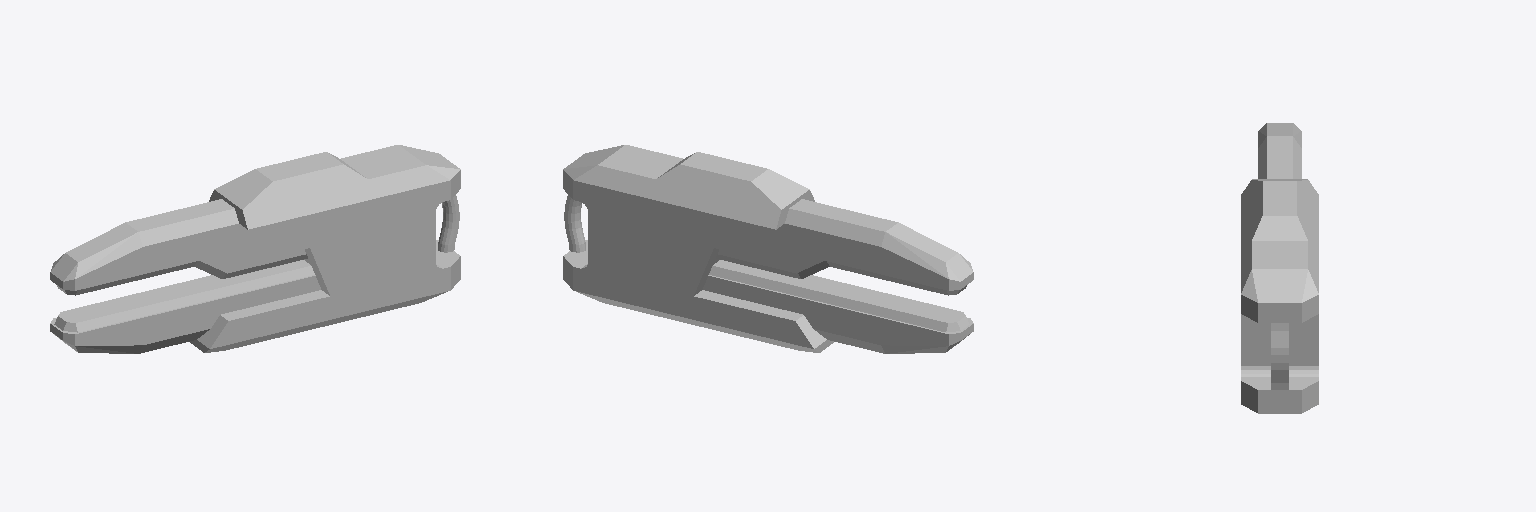
3 renders of one model, left to right at view 1: azimuth 30°, elevation 25°; view 2: azimuth 150°, elevation 25°; view 3: azimuth 270°, elevation 25°, orthographic.
Visible parts, largest first — view 1: LG_Cube; view 2: LG_Cube; view 3: LG_Cube.
Boxes of the visible parts, <box> form: LG_Cube: <box>50,145,460,353</box>; LG_Cube: <box>563,145,973,353</box>; LG_Cube: <box>1241,123,1318,413</box>.
Size of the model in its own units: 5.29 by 2 by 0.9.